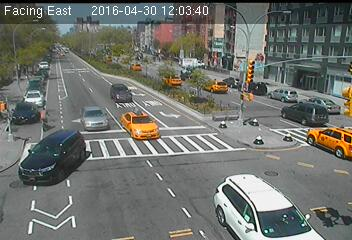neg: (36, 149, 56, 176), (19, 69, 39, 95), (318, 205, 334, 227), (217, 107, 233, 128), (157, 77, 172, 97), (186, 88, 200, 107), (247, 131, 260, 149), (316, 132, 329, 149), (298, 109, 310, 124)
